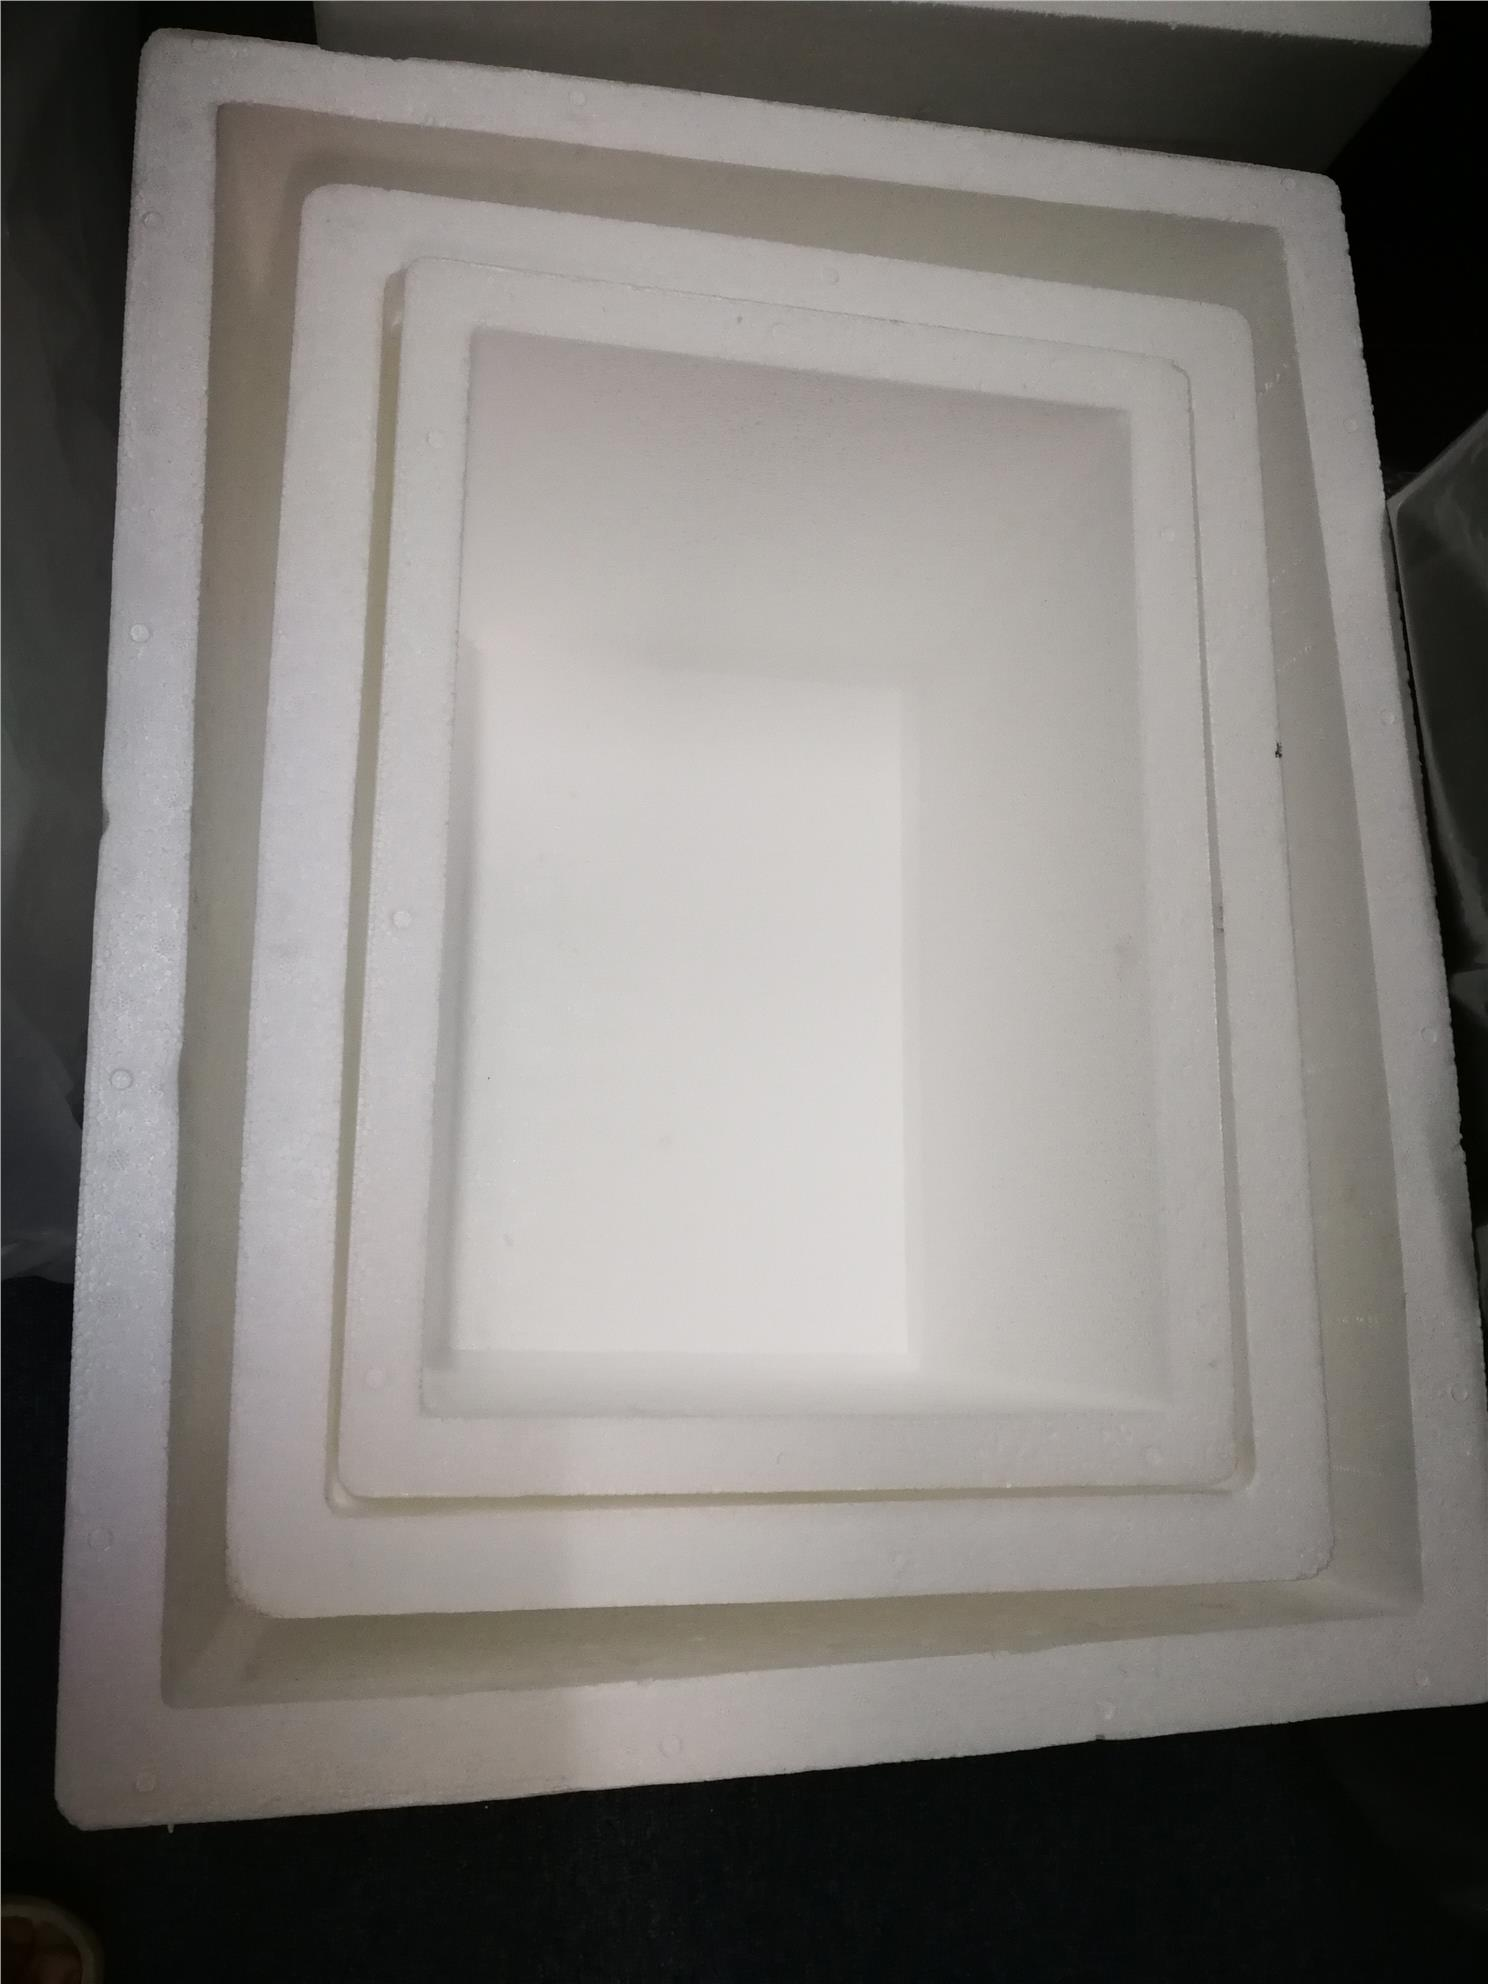Foam Box: (19, 2, 1488, 1850)
